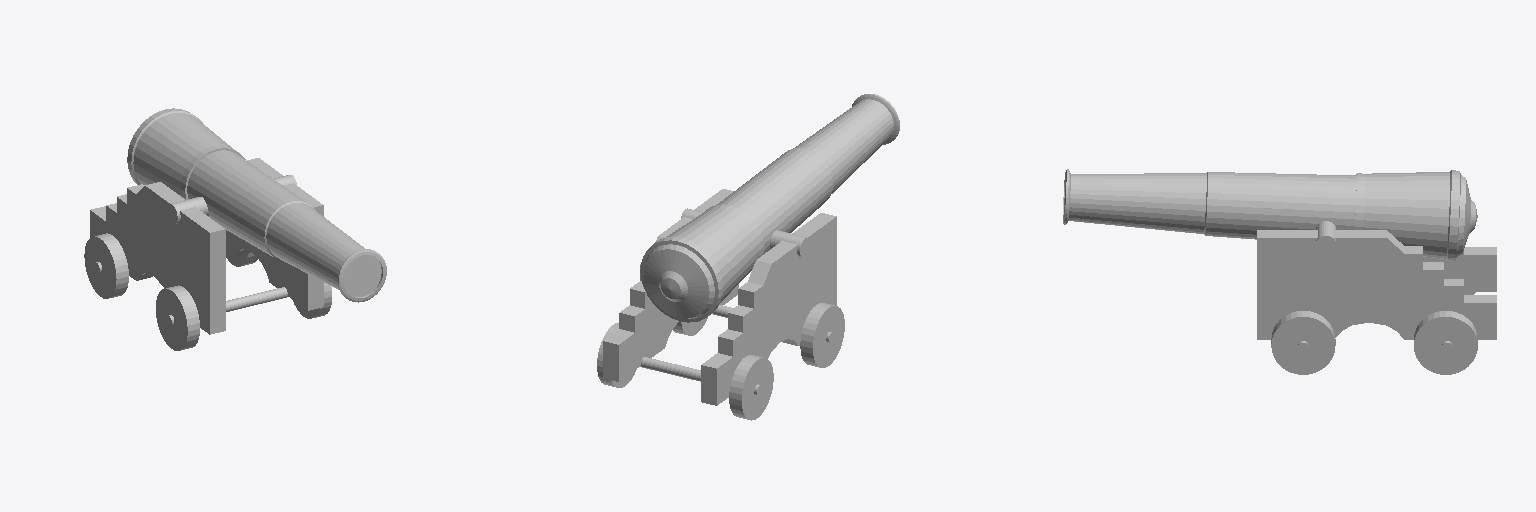
File: gun.obj
3 renders of one model, left to right at view 1: azimuth 30°, elevation 25°; view 2: azimuth 150°, elevation 25°; view 3: azimuth 270°, elevation 25°, orthographic.
Visible parts, largest first — view 1: Cylinder, Cube, Cylinder.002, Cylinder.004, Cylinder.007, Cylinder.001; view 2: Cylinder, Cube, Cylinder.002, Cylinder.004, Cylinder.006, Cylinder.001; view 3: Cylinder, Cube, Cylinder.003, Cylinder.005, Cylinder.001.
Boxes of the visible parts, box(x1,y1,x2,y2) form: Cylinder: box(127, 108, 386, 302); Cube: box(90, 158, 323, 334); Cylinder.002: box(84, 233, 128, 298); Cylinder.004: box(156, 285, 199, 350); Cylinder.007: box(166, 287, 287, 325); Cylinder.001: box(167, 175, 296, 223); Cylinder: box(640, 94, 899, 322); Cube: box(603, 189, 836, 405); Cylinder.002: box(729, 355, 773, 420); Cylinder.004: box(800, 303, 844, 367); Cylinder.006: box(640, 357, 761, 395); Cylinder.001: box(681, 208, 810, 257); Cylinder: box(1063, 169, 1477, 260); Cube: box(1257, 230, 1496, 339); Cylinder.003: box(1414, 311, 1477, 374); Cylinder.005: box(1271, 311, 1335, 374); Cylinder.001: box(1316, 221, 1336, 254).
Size of the model in its own units: 3.09 by 3.29 by 7.72.